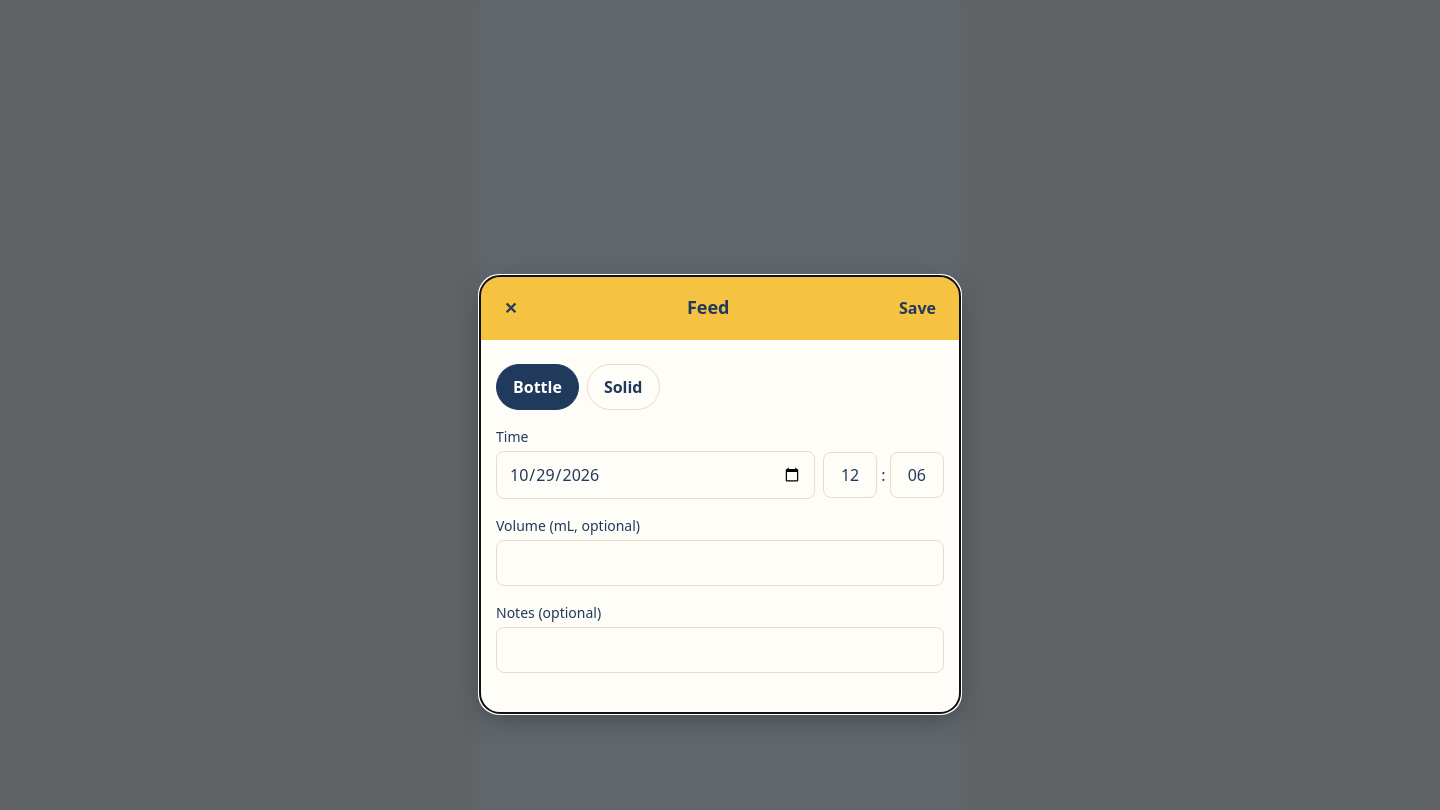
FeedingForm › refuses a volume of -5 with a message under the field
Type "-5" into the number field labelled "Volume (mL, optional)" at point(720, 563), box [496, 540, 944, 586]
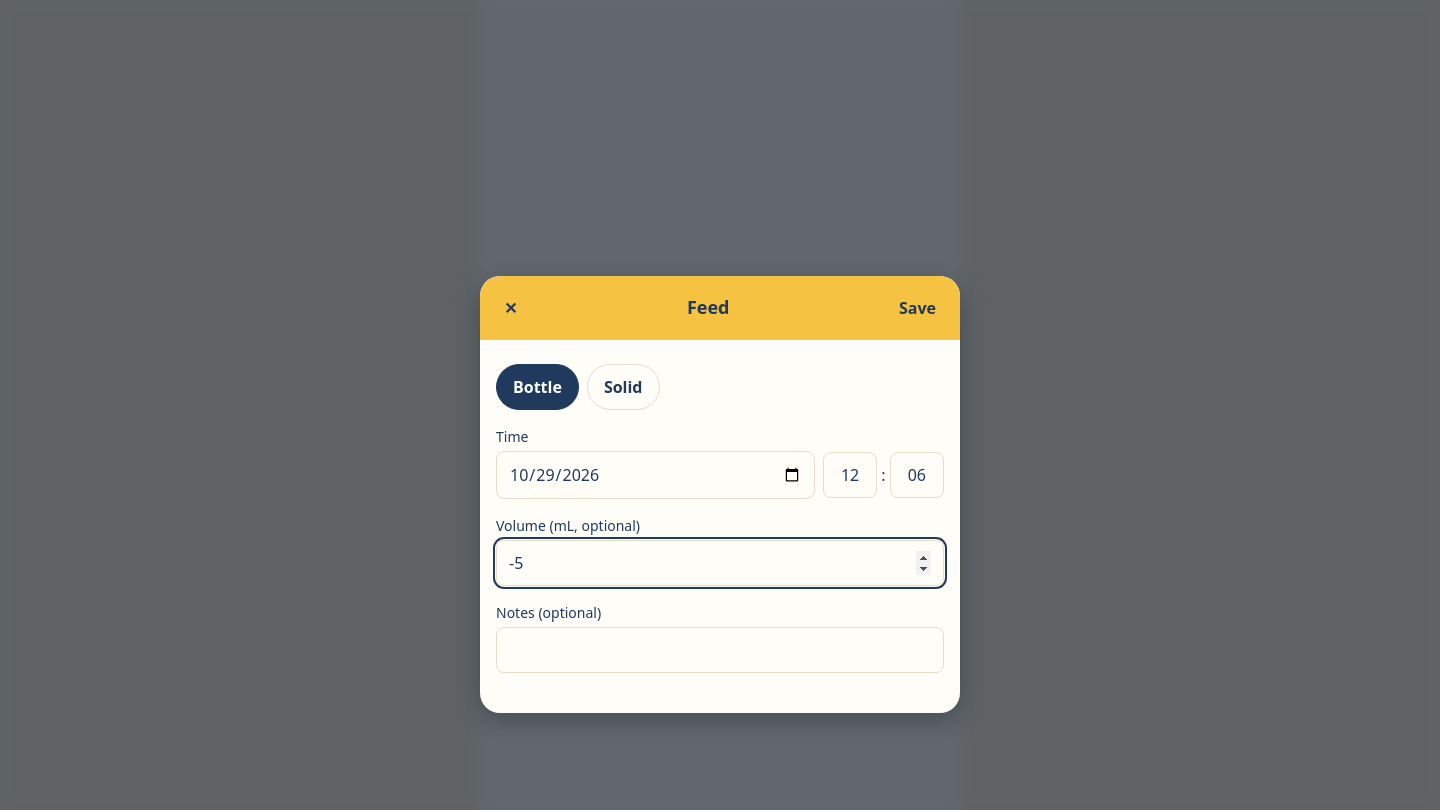
Click the button "Save" at point(918, 308), box [891, 292, 944, 324]
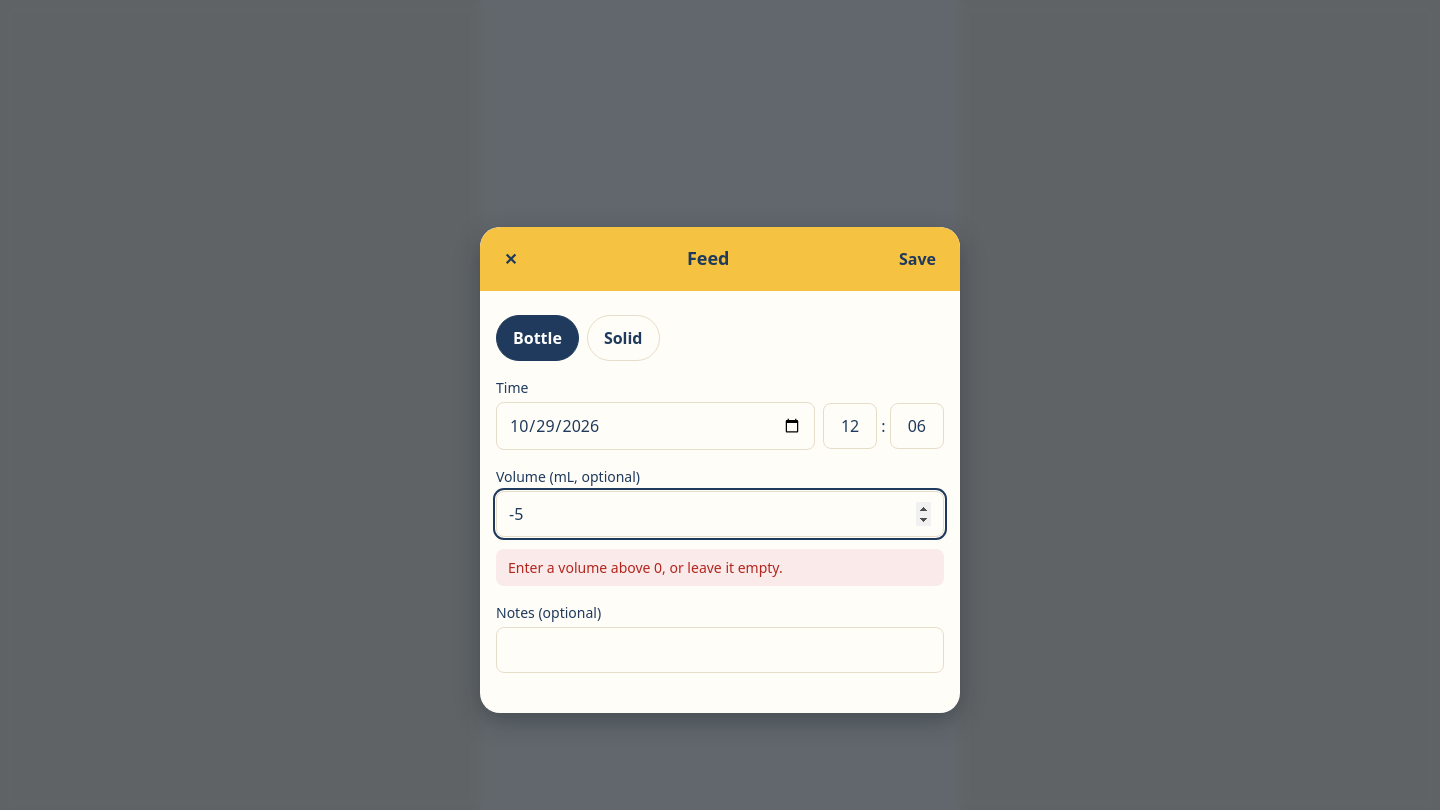
Check: the message shows "Enter a volume above 0", box [508, 558, 783, 577]
